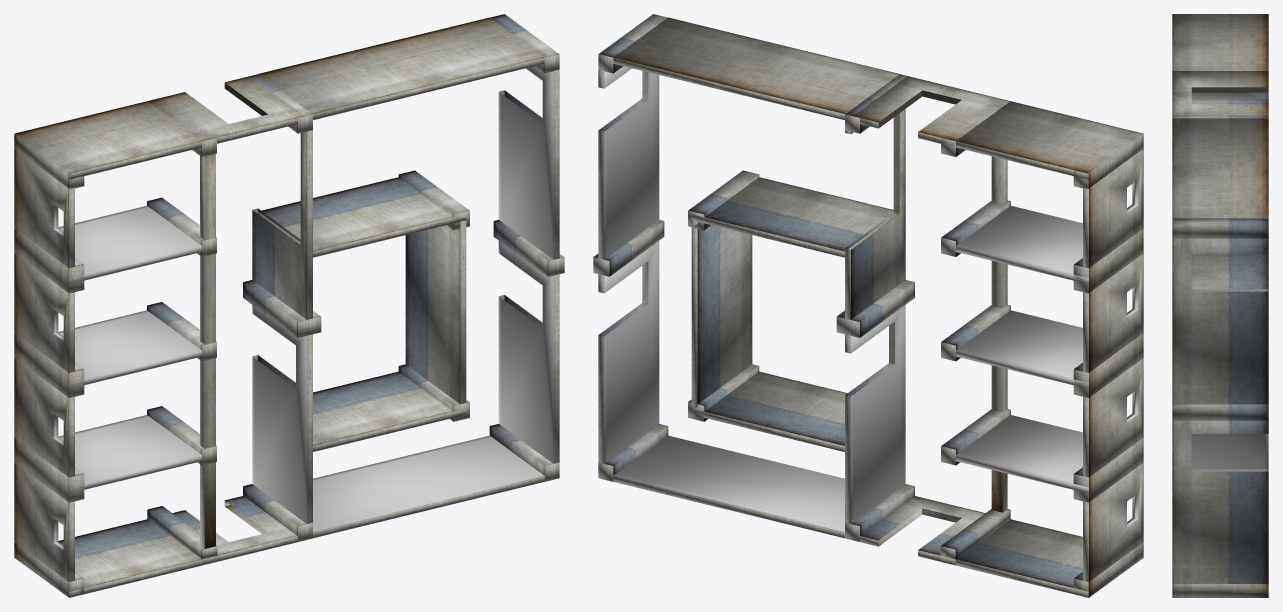
The model's file is Prison Walls2.FBX.
3 renders of one model, left to right at view 1: azimuth 30°, elevation 25°; view 2: azimuth 150°, elevation 25°; view 3: azimuth 270°, elevation 25°, orthographic. The views are drawn at different scales.
Parts seen in each view (by area): view 1: Prison Walls02; view 2: Prison Walls02; view 3: Prison Walls02.
Part boxes in pixels (left/top/right/bottom): Prison Walls02: left=14, top=14, right=564, bottom=597; Prison Walls02: left=593, top=14, right=1143, bottom=597; Prison Walls02: left=1172, top=14, right=1268, bottom=597.
Bounding box in the file's own units: 15.05 × 12.32 × 2.88.
